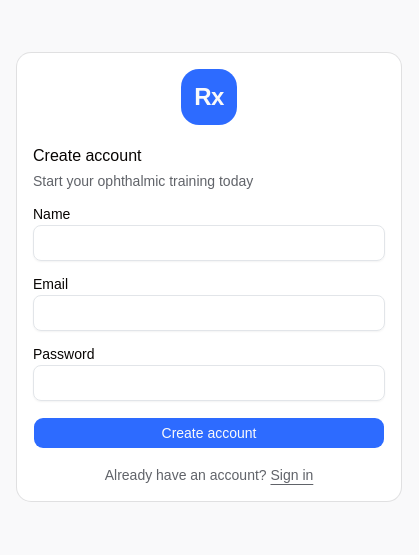
Test case: Register › shows validation error for password under 8 characters
Type "short" into the password field labelled "Password" at (209, 383), box [33,365,385,401]
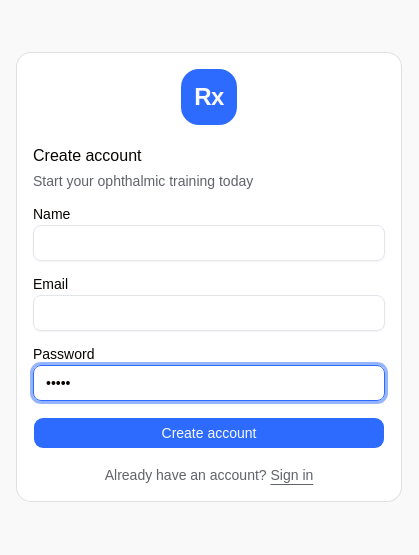
Click the button "Create account" at (209, 433), box [33,417,385,449]
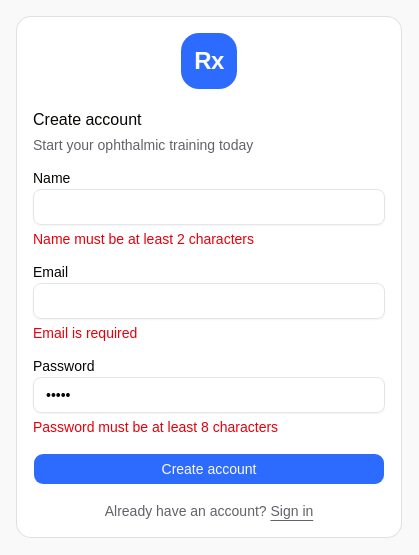
Now the text "Password must be at least 8 characters" is shown, box [33,419,278,435]
